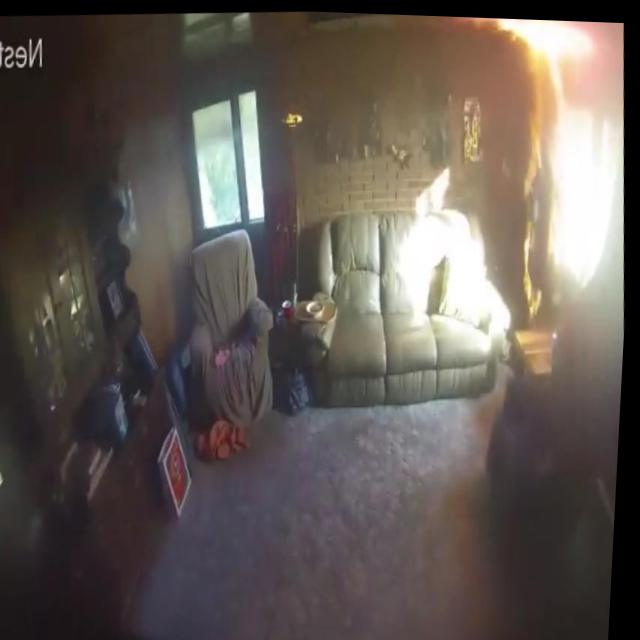fire: (510, 76, 561, 318), (487, 14, 603, 81)
